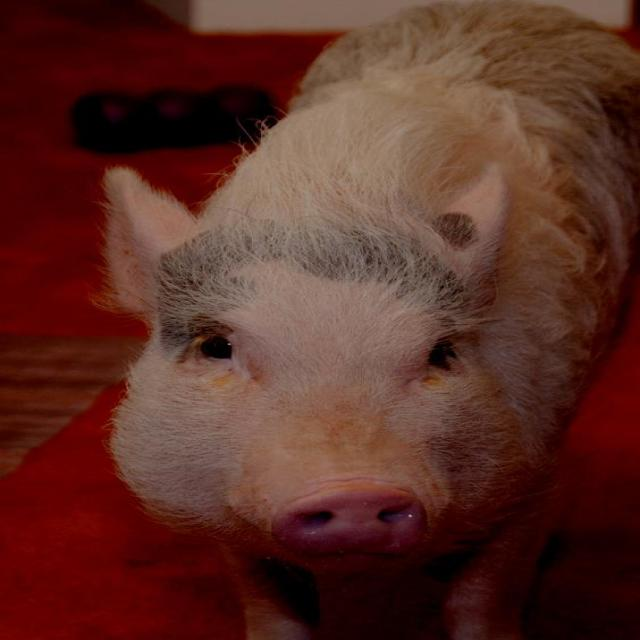pig: (105, 1, 638, 640)
